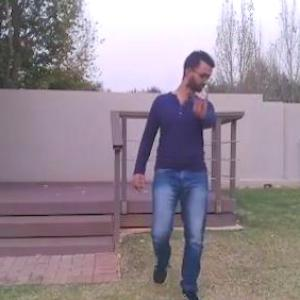takeoff-hand: (188, 82, 217, 122)
